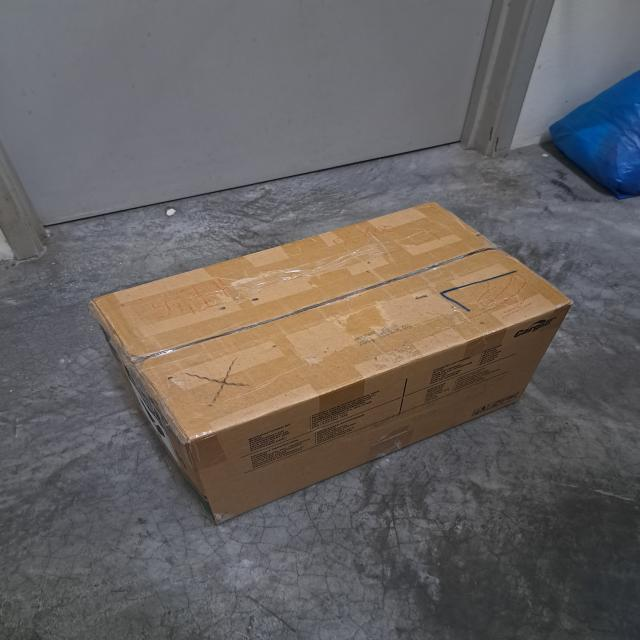cardboard: (93, 204, 572, 522)
